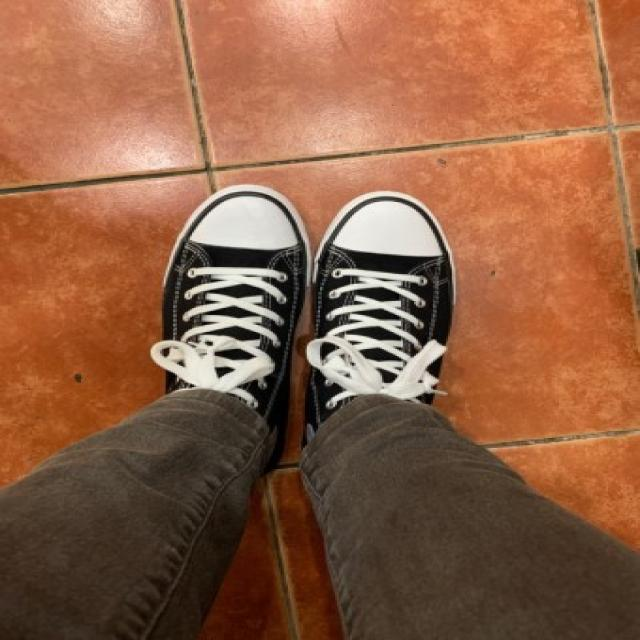no-boots: (330, 150, 460, 455), (160, 178, 303, 439)
